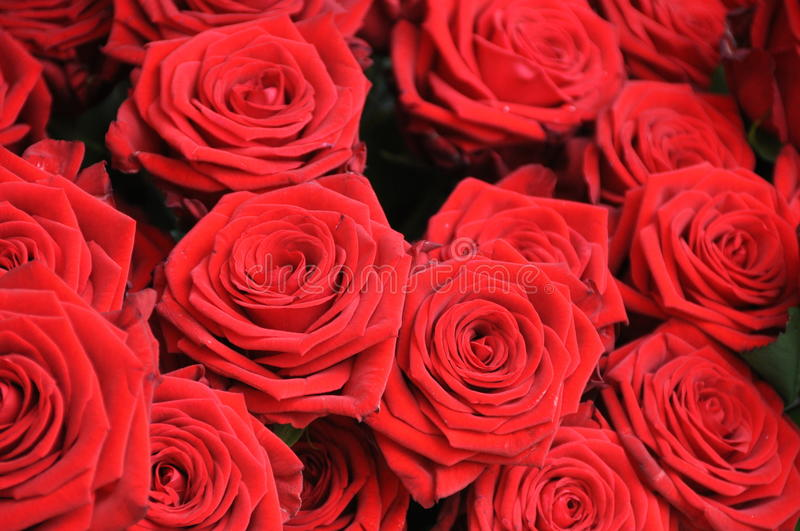RedRose: (192, 195, 399, 409), (0, 299, 158, 527), (618, 317, 798, 513), (133, 26, 360, 175), (434, 209, 552, 450), (0, 147, 145, 322), (422, 13, 628, 134), (133, 375, 292, 531), (638, 166, 781, 338), (499, 415, 660, 526), (600, 71, 747, 175), (605, 0, 731, 89), (305, 428, 417, 525), (0, 0, 111, 67)
